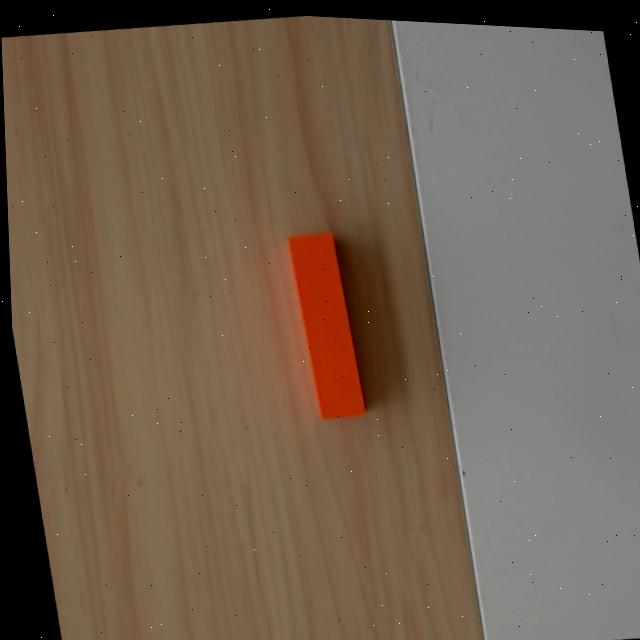Balok-Jingga-1002525: (285, 228, 367, 423)
